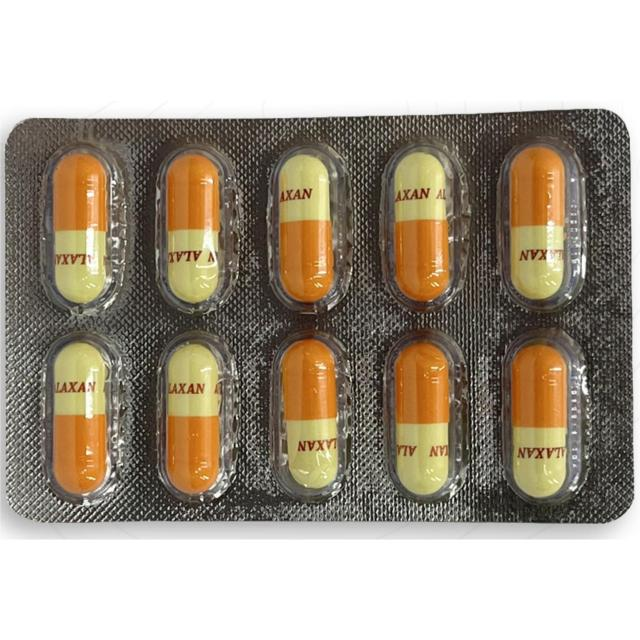blister: (4, 114, 636, 526)
